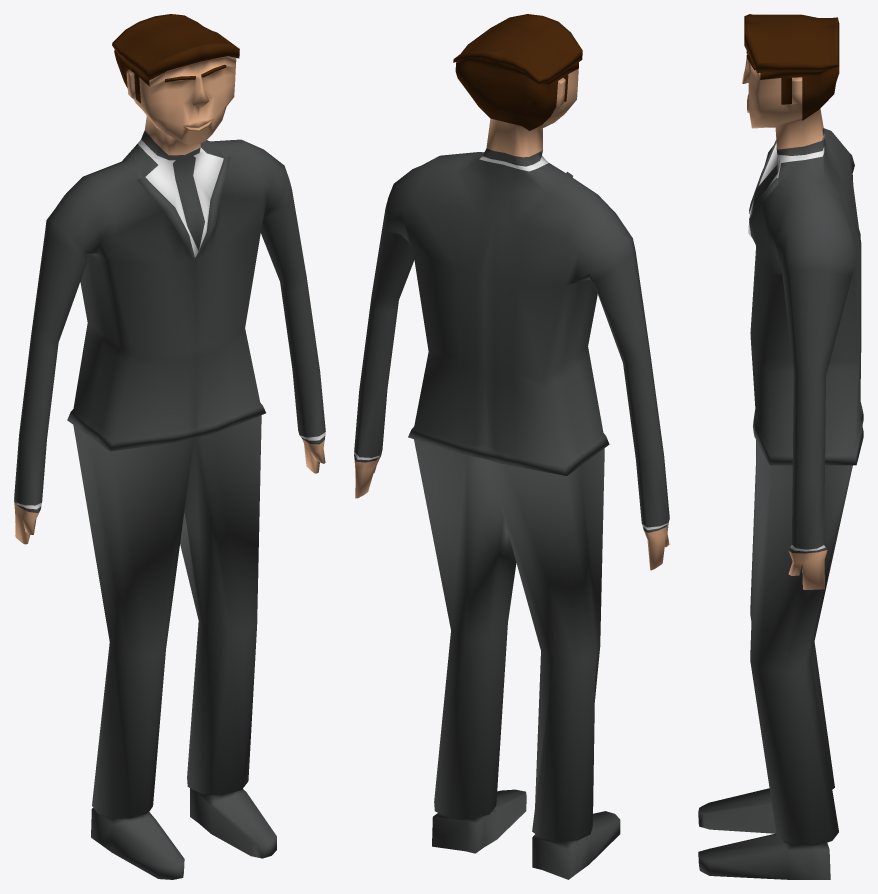
3 renders of one model, left to right at view 1: azimuth 30°, elevation 25°; view 2: azimuth 150°, elevation 25°; view 3: azimuth 270°, elevation 25°, orthographic. The views are drawn at different scales.
Parts seen in each view (by area): view 1: CH_1.001; view 2: CH_1.001; view 3: CH_1.001.
Boxes of the visible parts, box(x1,y1,x2,y2) form: CH_1.001: box(14, 14, 325, 879); CH_1.001: box(354, 14, 669, 879); CH_1.001: box(698, 14, 863, 879).
Bounding box in the file's own units: 78.16 × 195 × 35.46.
